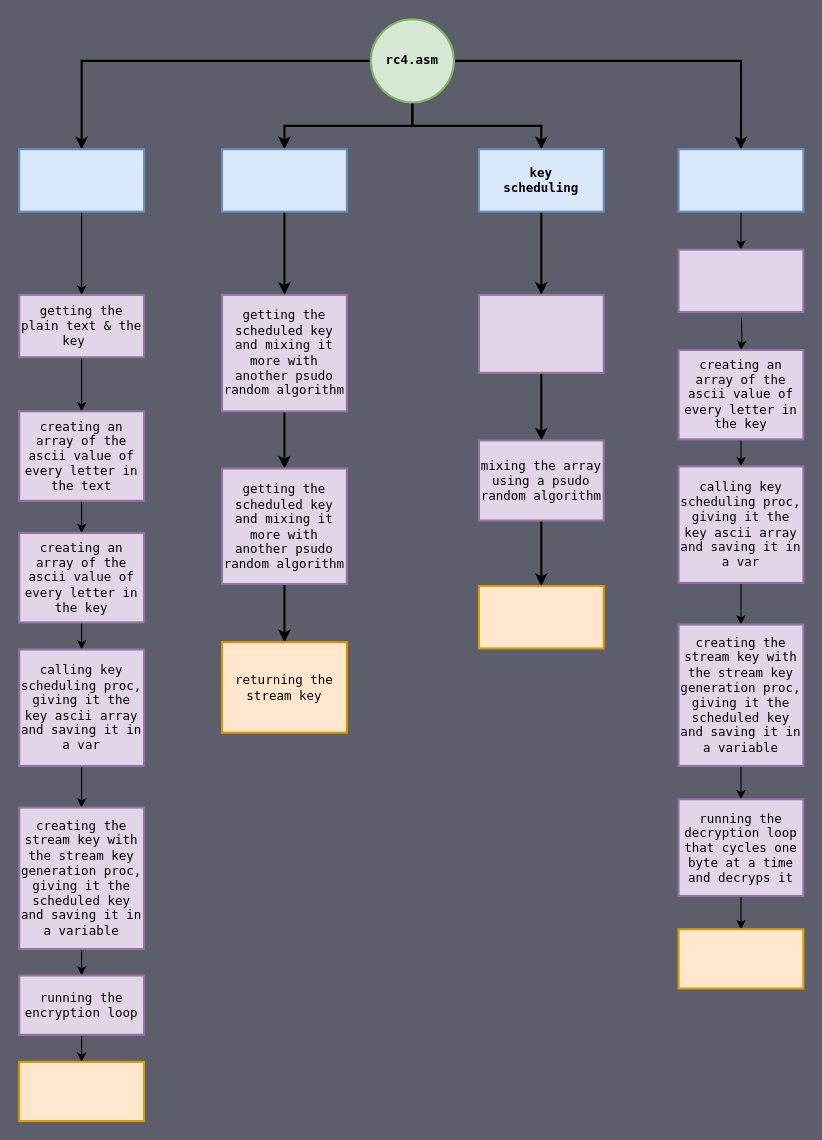
The diagram is 822 pixels wide and 1140 high, and some of its shapes have lost their labels. Here are the shapes that lost their labels. From the top down, the centre of each, then its label:
the point at 81,180: encryption procedure
the point at 283,180: Stream Key Generation
the point at 740,180: decryption procedure
the point at 740,280: getting the ciphertext & the key
the point at 540,333: creating array [0-255] & getting key
the point at 540,616: returning the result
the point at 740,958: returning the plain text
the point at 81,1091: returning the ciphertext
